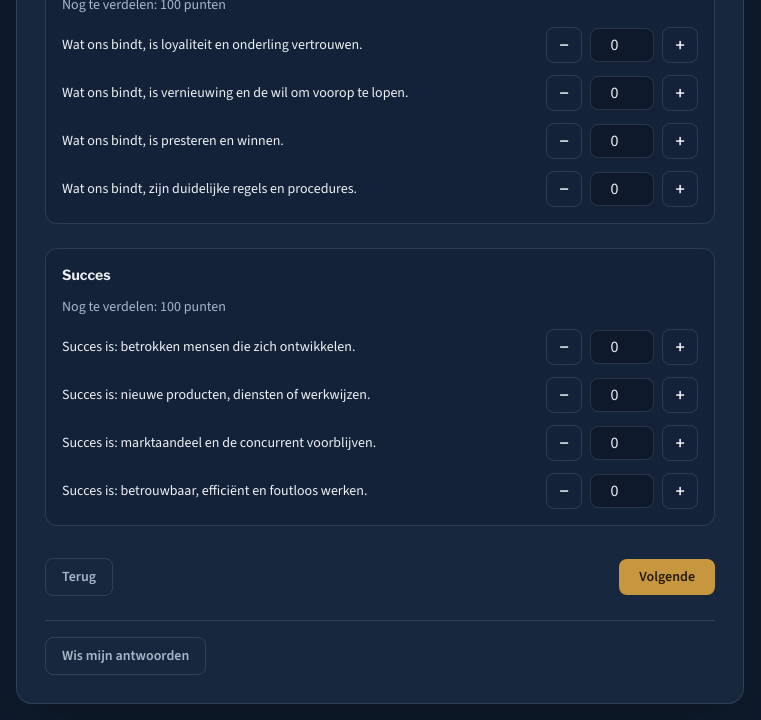
Scenario: cultuurstap › toont nog te verdelen bij start en fout na Volgende-klik
This screenshot has width=761, height=720.
(page scrolled)
Click the button "Volgende": click(667, 577) 619,559 -> 715,595
(page scrolled)
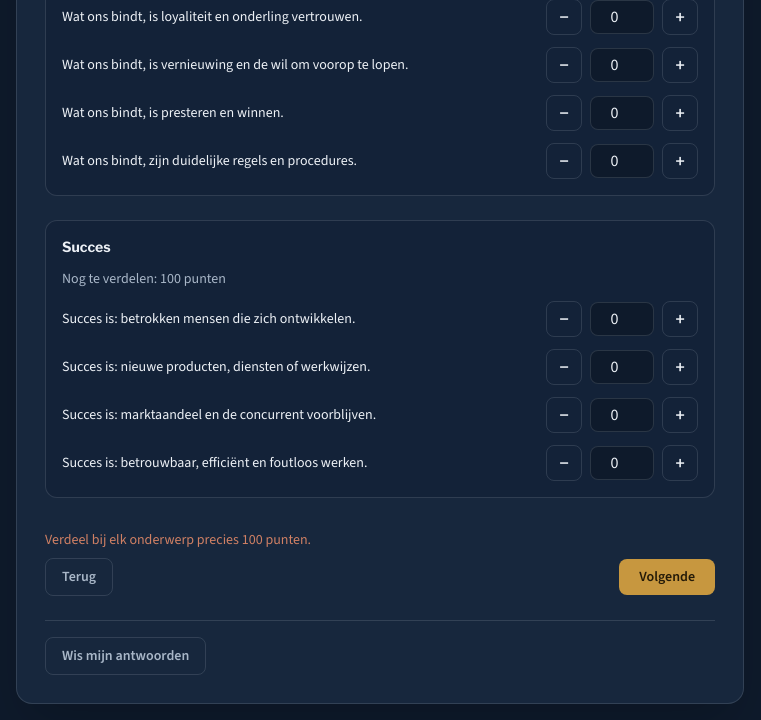
Now the message reads "Verdeel bij elk onderwerp precies 100 punten.", box 45,530 -> 311,549
